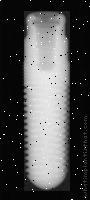Implant Direct: (24, 11, 70, 191)
